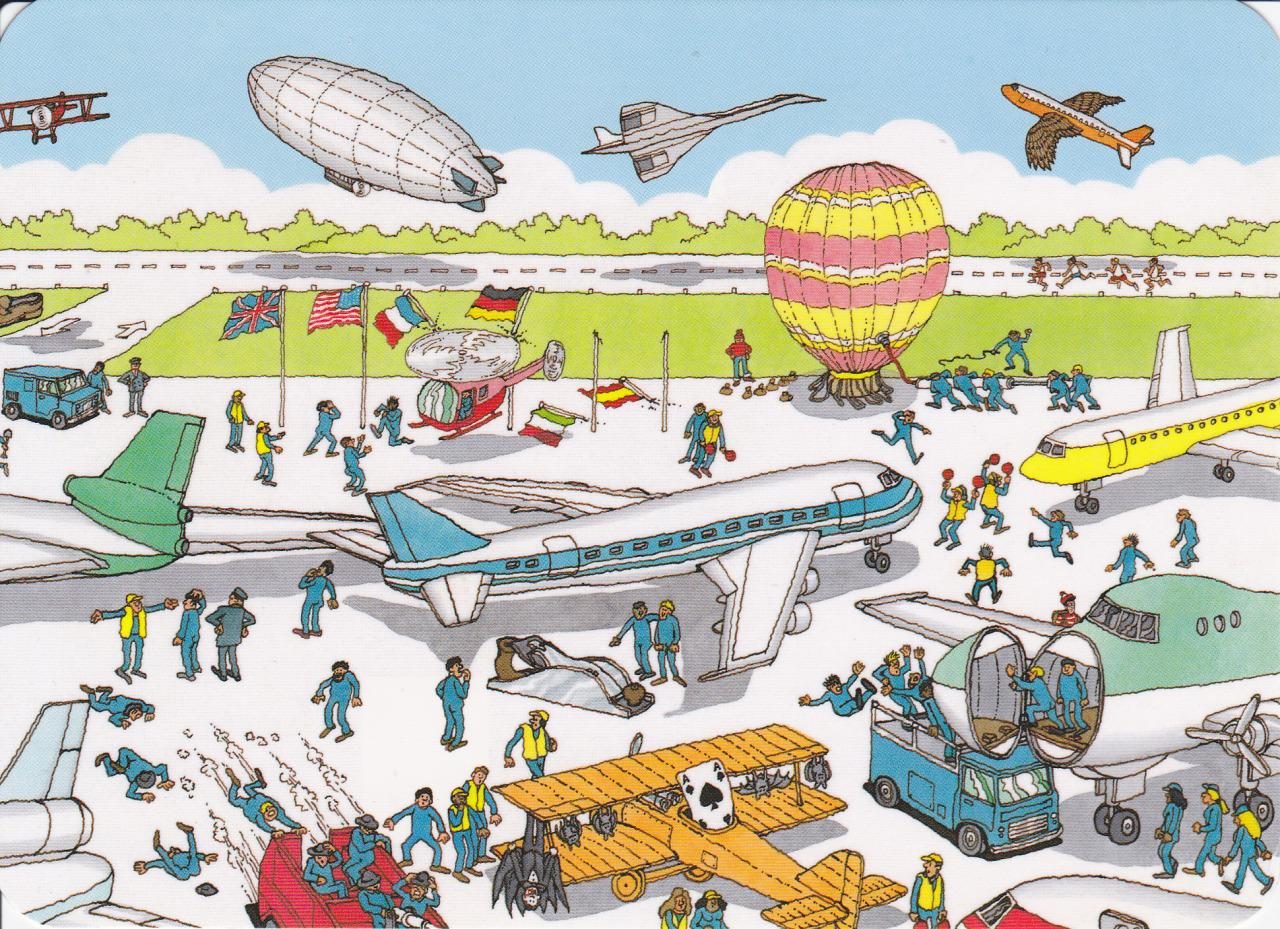waldos: (1049, 588, 1082, 629)
